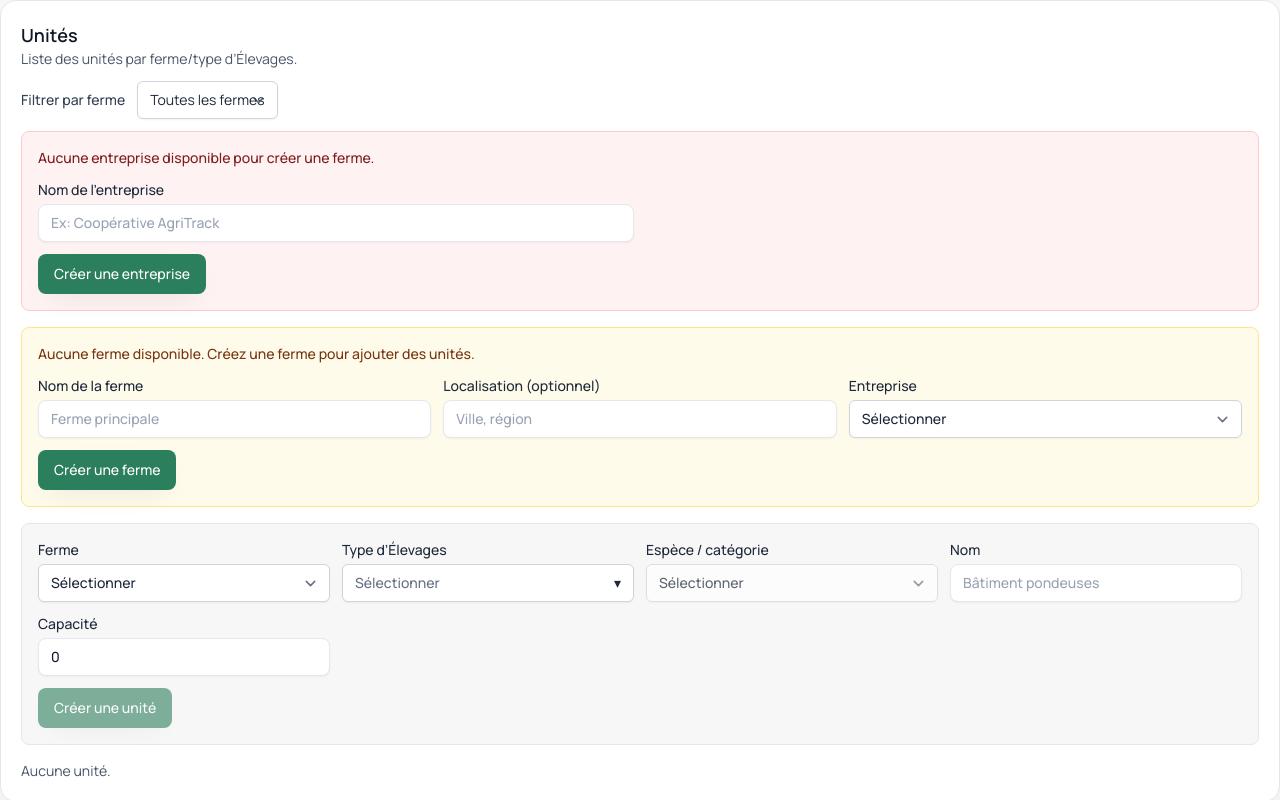
it: UnitsPage › permet de créer une entreprise quand aucune n’existe
The image size is (1280, 800).
Check: the text "Aucune entreprise disponible pour créer une ferme." is shown, box [38,148,374,167]
In the field labelled "Nom de l’entreprise": (336, 223) [38,204,634,242], type "Entreprise Test"
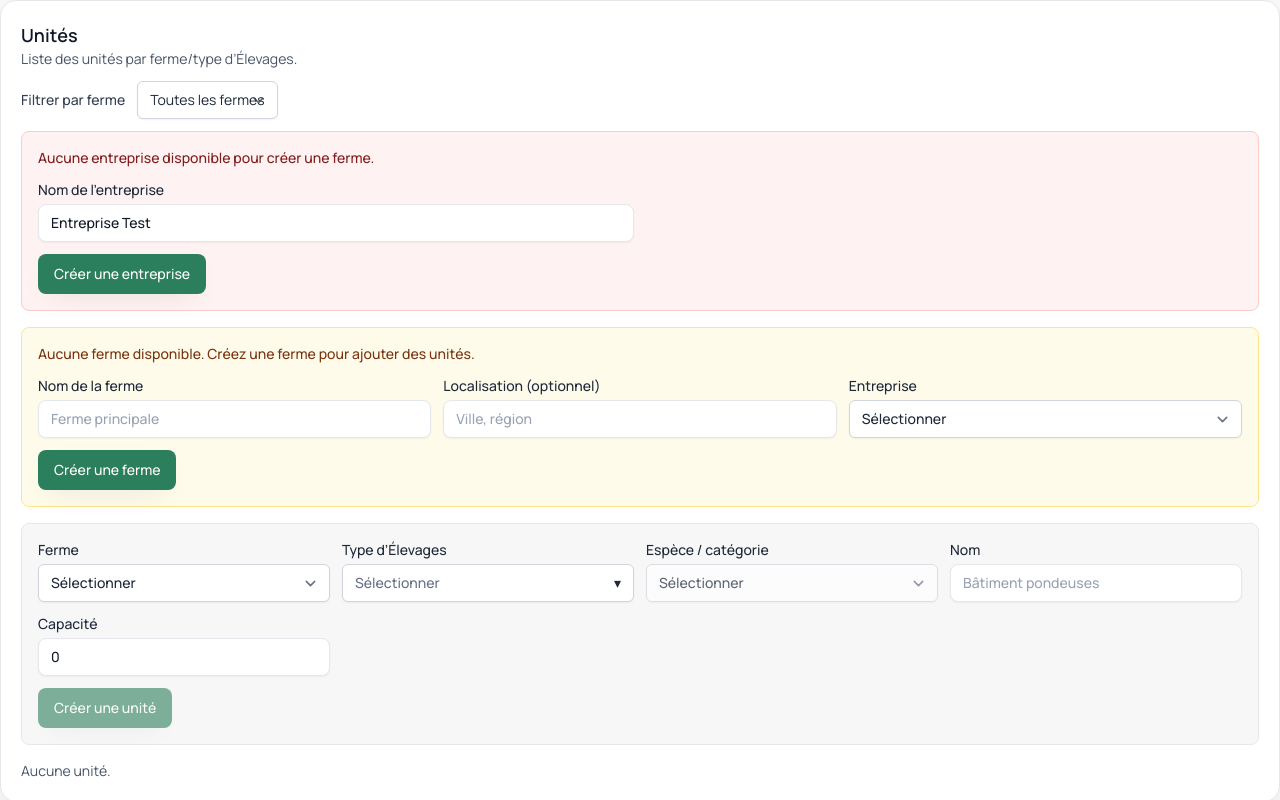
Click the button "Créer une entreprise": (122, 274) [38,254,206,294]
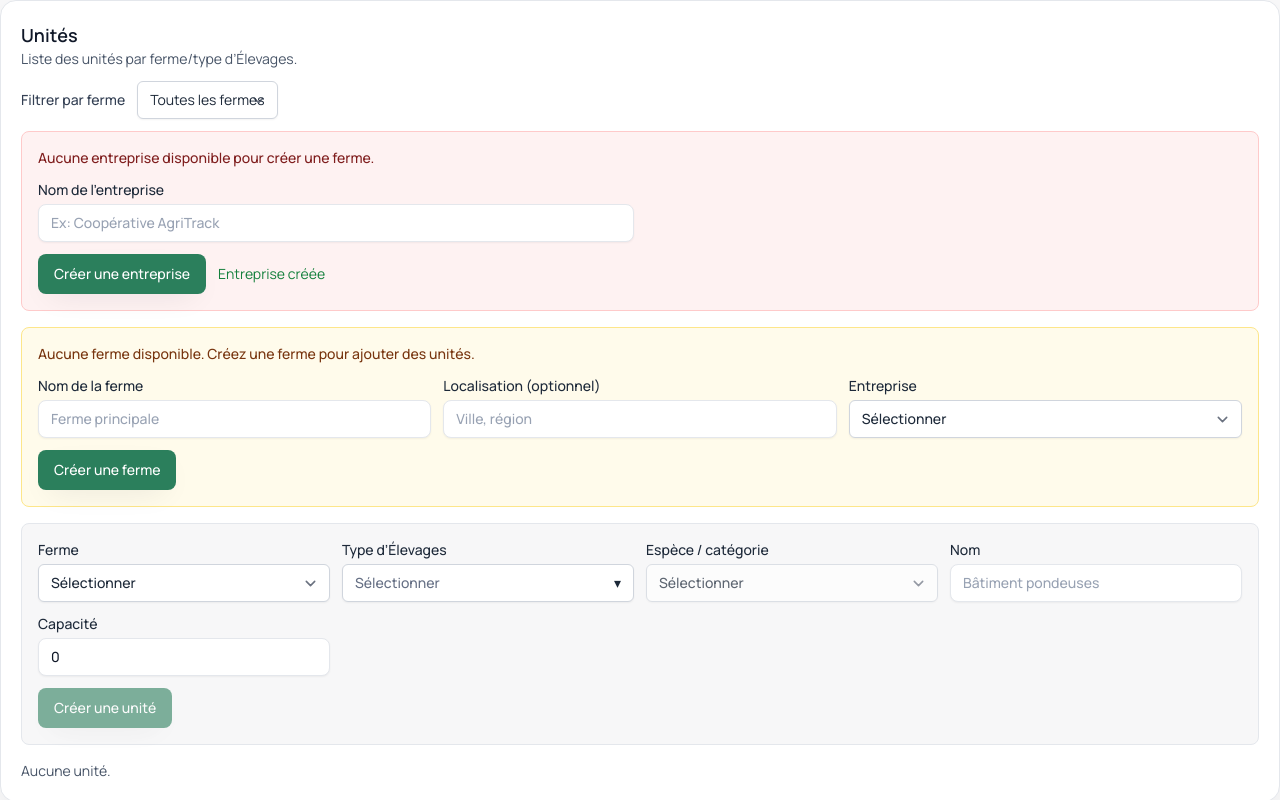
Check: the text "Entreprise créée" is shown, box [218,264,325,284]
